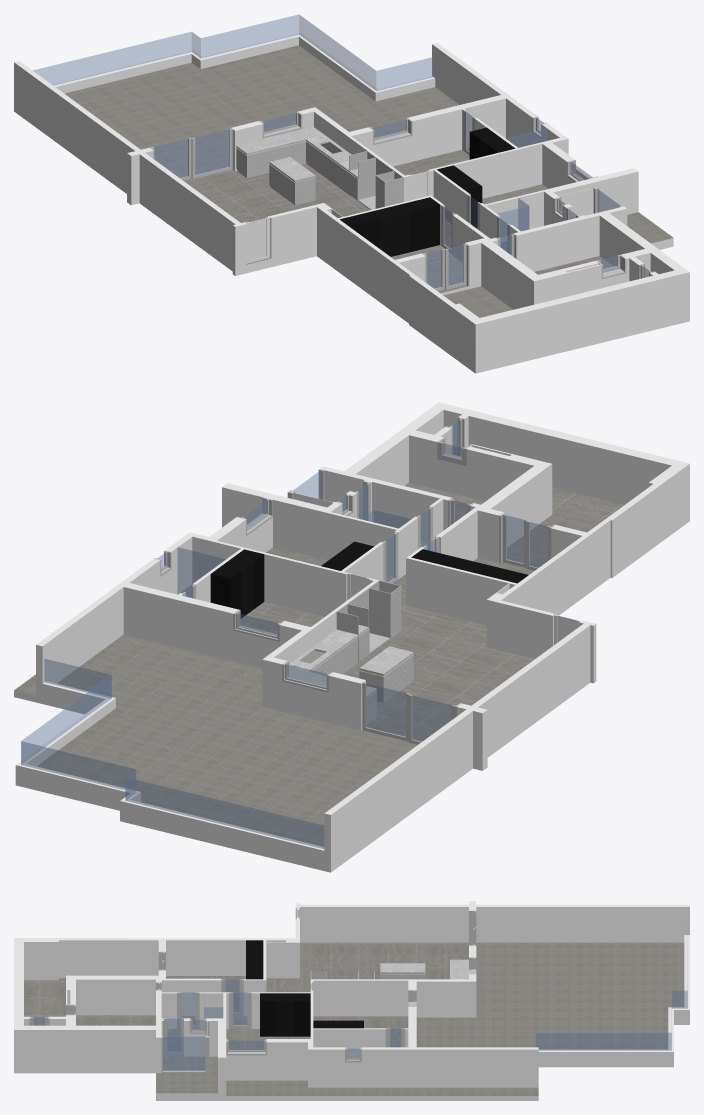
3 renders of one model, top to bottom at view 1: azimuth 30°, elevation 25°; view 2: azimuth 150°, elevation 25°; view 3: azimuth 270°, elevation 25°, orthographic. The views are drawn at different scales.
Parts seen in each view (by area): view 1: Mesh14_Material #58_0, Group1_nen_0, Group70_Material #59_0, Group1_Material #58_0, Group61_go trang_0, Group32_go trang_0, Mesh27_go trang_0, Group32_da _0, Box012, Box009, Group62_go trang_0, Box010 (+4 smaller); view 2: Mesh14_Material #58_0, Group1_nen_0, Group70_Material #59_0, Group1_Material #58_0, Group61_go trang_0, Mesh27_go trang_0, Group1_da 22_0, Group32_da _0, Group32_go trang_0, Group62_go trang_0, Box001, Box010 (+1 smaller); view 3: Mesh14_Material #58_0, Group1_nen_0, Group70_Material #59_0, Group1_Material #58_0, Group61_go trang_0, Group1_da 22_0, Group63_Material #58_0, Box010, Box008, Box005, Box007, Group62_da _0 (+3 smaller).
Part boxes in pixels (left/top/right/bottom): Mesh14_Material #58_0: left=14, top=33, right=689, bottom=367; Group1_nen_0: left=65, top=45, right=673, bottom=317; Group70_Material #59_0: left=33, top=14, right=648, bottom=288; Group1_Material #58_0: left=14, top=103, right=689, bottom=373; Group61_go trang_0: left=149, top=110, right=654, bottom=291; Group32_go trang_0: left=236, top=141, right=349, bottom=195; Mesh27_go trang_0: left=349, top=151, right=403, bottom=209; Group32_da _0: left=236, top=127, right=351, bottom=171; Box012: left=409, top=204, right=439, bottom=252; Box009: left=379, top=211, right=409, bottom=256; Group62_go trang_0: left=269, top=164, right=315, bottom=205; Box010: left=340, top=197, right=439, bottom=226; Mesh14_Material #58_0: left=15, top=402, right=689, bottom=862; Group1_nen_0: left=14, top=482, right=596, bottom=846; Group70_Material #59_0: left=21, top=420, right=546, bottom=848; Group1_Material #58_0: left=14, top=511, right=689, bottom=872; Group61_go trang_0: left=154, top=417, right=555, bottom=744; Mesh27_go trang_0: left=336, top=580, right=400, bottom=662; Group1_da 22_0: left=552, top=487, right=624, bottom=525; Group32_da _0: left=289, top=629, right=376, bottom=697; Group32_go trang_0: left=301, top=637, right=376, bottom=724; Group62_go trang_0: left=359, top=654, right=413, bottom=702; Box001: left=210, top=549, right=263, bottom=607; Box010: left=411, top=549, right=528, bottom=583; Mesh14_Material #58_0: left=14, top=901, right=689, bottom=1093; Group1_nen_0: left=76, top=942, right=684, bottom=1095; Group70_Material #59_0: left=34, top=979, right=687, bottom=1070; Group1_Material #58_0: left=14, top=1017, right=689, bottom=1100; Group61_go trang_0: left=29, top=910, right=476, bottom=1073; Group1_da 22_0: left=24, top=978, right=65, bottom=1025; Group63_Material #58_0: left=266, top=942, right=285, bottom=978; Box010: left=246, top=940, right=263, bottom=979; Box008: left=293, top=1000, right=310, bottom=1036; Box005: left=277, top=1000, right=293, bottom=1036; Box007: left=260, top=1000, right=276, bottom=1036; Group62_da _0: left=380, top=963, right=425, bottom=973.
Size of the model in its own units: 519 by 115 by 946.
Materials: 8 (4 with a texture image).
